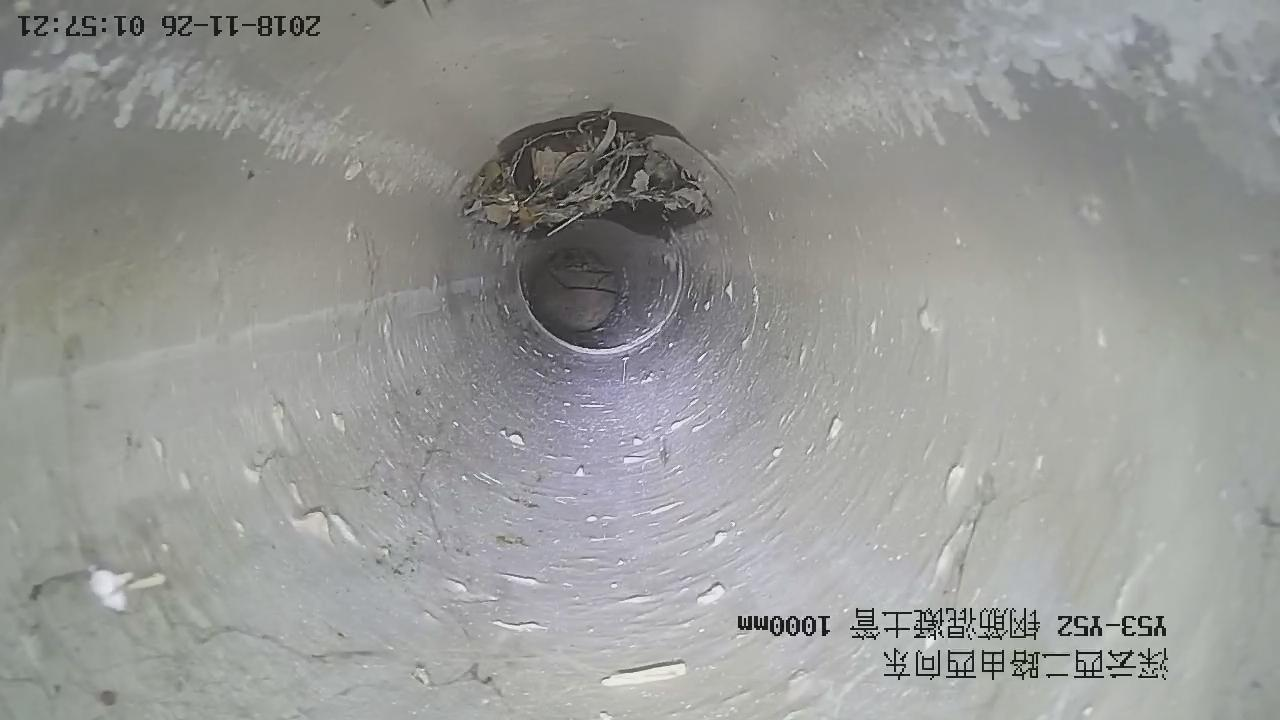CKTJ: (516, 243, 686, 355)
ZAW: (463, 111, 712, 236)
